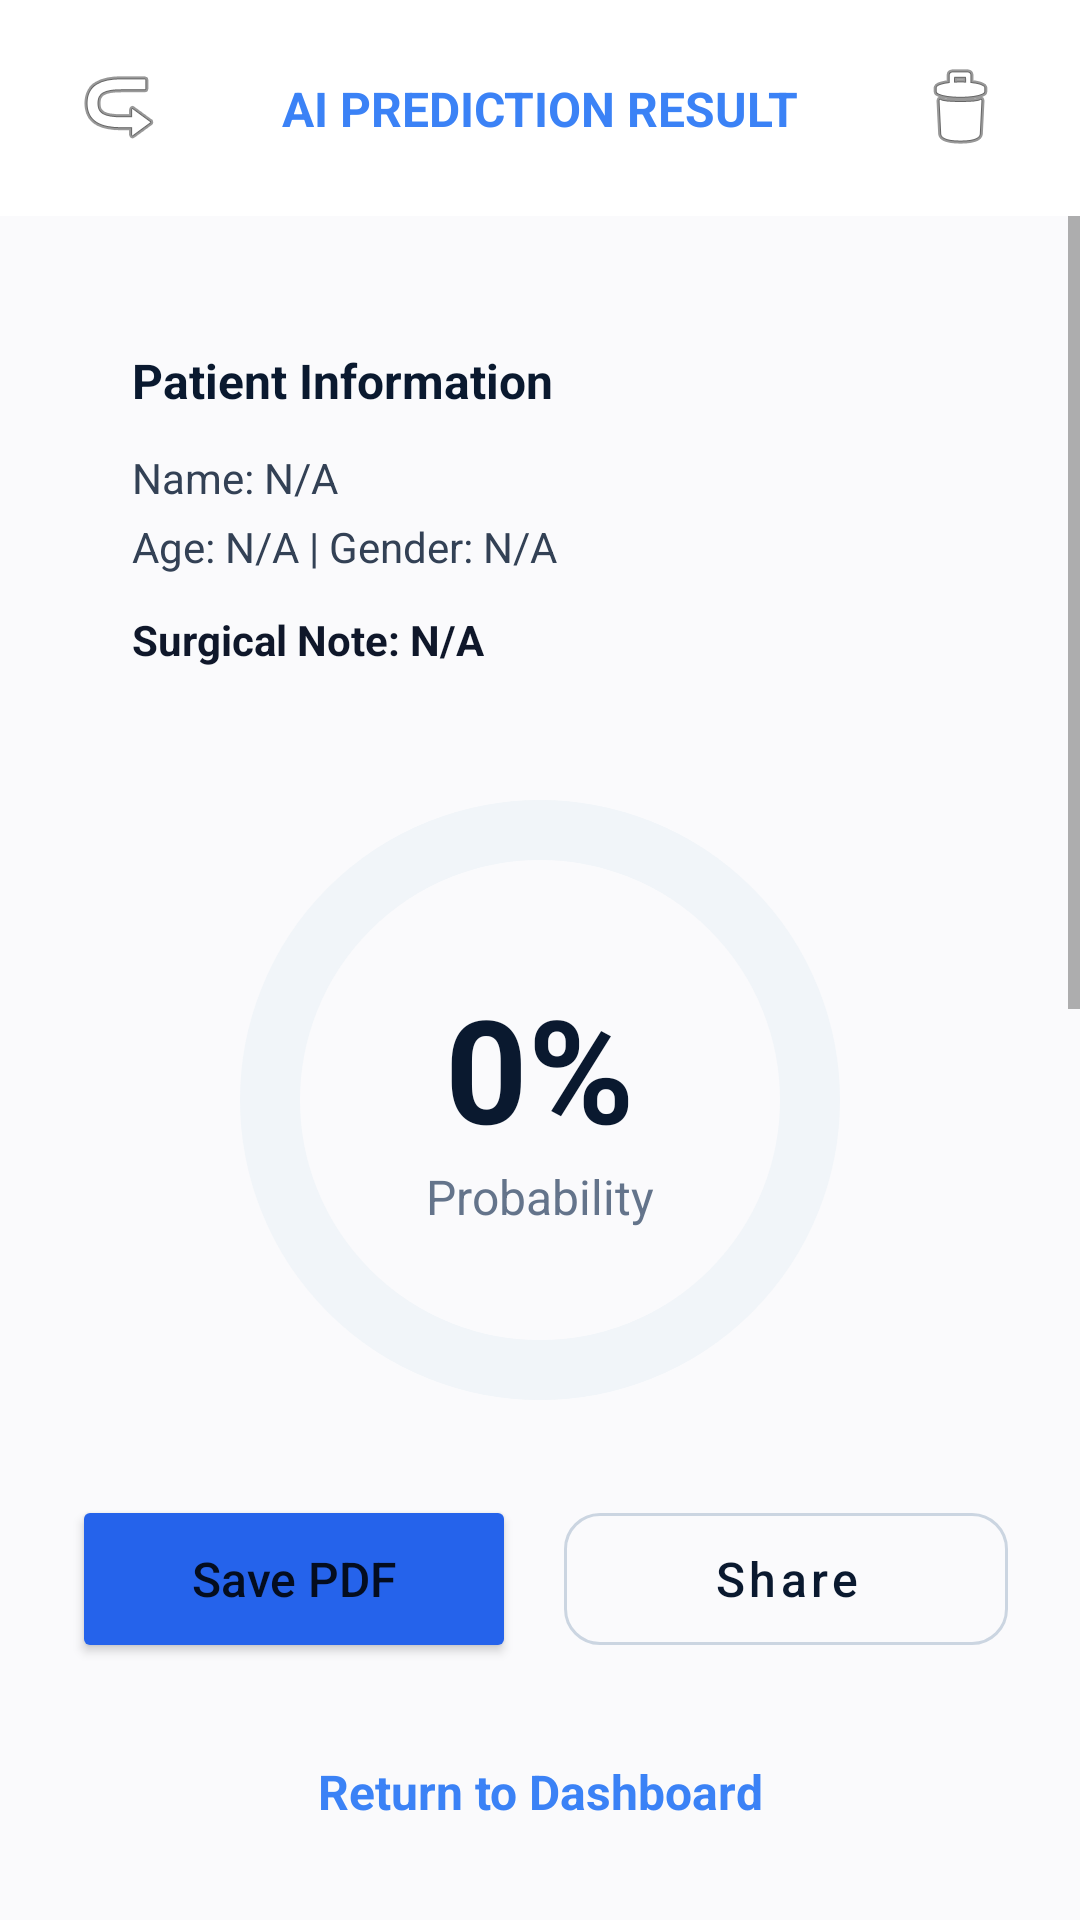

Icon bounding boxes for this 1080×1920 phone screenshot, format (x1, y1, x2, y2):
Delete Report: (933, 69, 988, 144)
